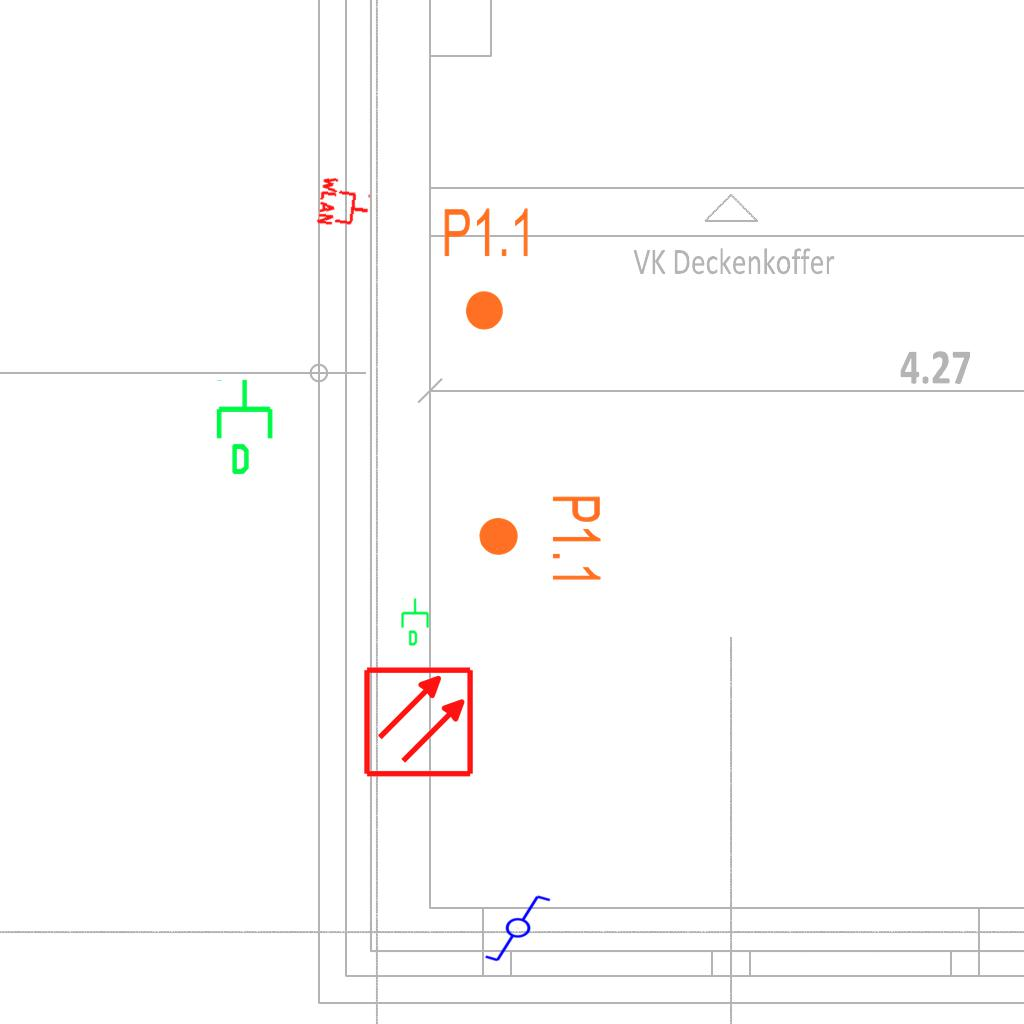Datenanschluss_einfach: (212, 377, 281, 477), (399, 597, 433, 647)
Downlight_LED_Einbauleuchten_Flur_2: (476, 493, 604, 586), (441, 205, 534, 333)
RMO_Rauchmelder_optischer: (362, 665, 475, 778)
WLAN: (315, 173, 375, 233)
Wechselschalter: (483, 893, 561, 965)
